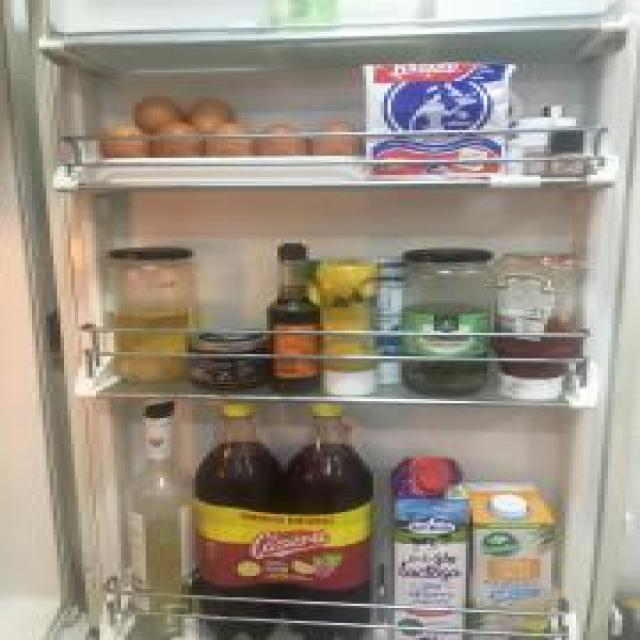egg: (148, 124, 208, 158), (258, 120, 308, 157), (313, 120, 363, 157), (186, 96, 236, 132), (206, 121, 252, 158), (135, 96, 185, 130), (103, 124, 146, 158)
marmelade: (188, 329, 266, 386)
milk: (391, 456, 469, 640), (469, 480, 558, 640)
